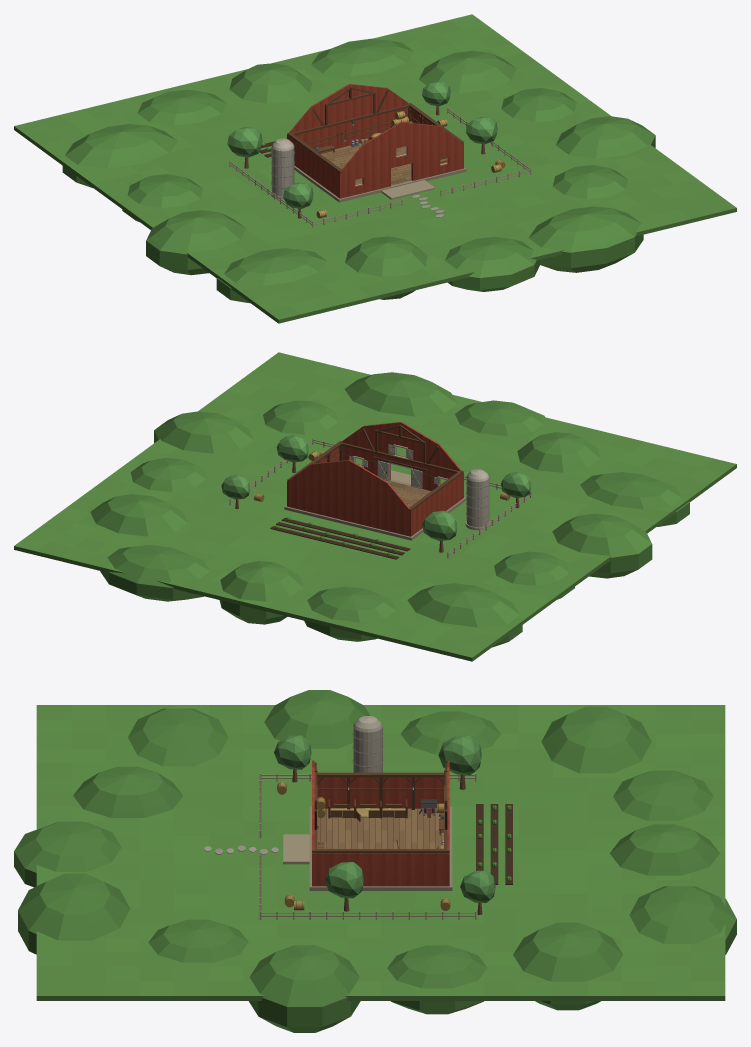
The model's file is Ville_Interior_Barn.glb.
The picture shows the model from 3 angles, top to bottom: view 1: azimuth 30°, elevation 25°; view 2: azimuth 150°, elevation 25°; view 3: azimuth 270°, elevation 25°; orthographic projection. The views are drawn at different scales.
Parts seen in each view (by area): view 1: Backdrop, Wall_Front, Wall_Back, Interior_Core, Wall_Left; view 2: Backdrop, Wall_Back, Wall_Front, Wall_Left, Interior_Core; view 3: Backdrop, Wall_Left, Interior_Core, Wall_Right, Wall_Back.
Part boxes in pixels (left/top/right/bottom): Backdrop: left=14, top=14, right=736, bottom=323; Wall_Front: left=341, top=122, right=461, bottom=197; Wall_Back: left=289, top=84, right=409, bottom=153; Interior_Core: left=294, top=111, right=466, bottom=202; Wall_Left: left=287, top=132, right=341, bottom=198; Backdrop: left=14, top=352, right=736, bottom=661; Wall_Back: left=289, top=460, right=409, bottom=535; Wall_Front: left=341, top=422, right=461, bottom=490; Wall_Left: left=409, top=470, right=463, bottom=536; Interior_Core: left=284, top=462, right=466, bottom=540; Backdrop: left=14, top=690, right=736, bottom=1032; Wall_Left: left=317, top=772, right=444, bottom=821; Interior_Core: left=309, top=806, right=452, bottom=890; Wall_Right: left=312, top=849, right=449, bottom=886; Wall_Back: left=439, top=760, right=449, bottom=849.
Size of the model in its own units: 85.55 by 16.35 by 84.02.
